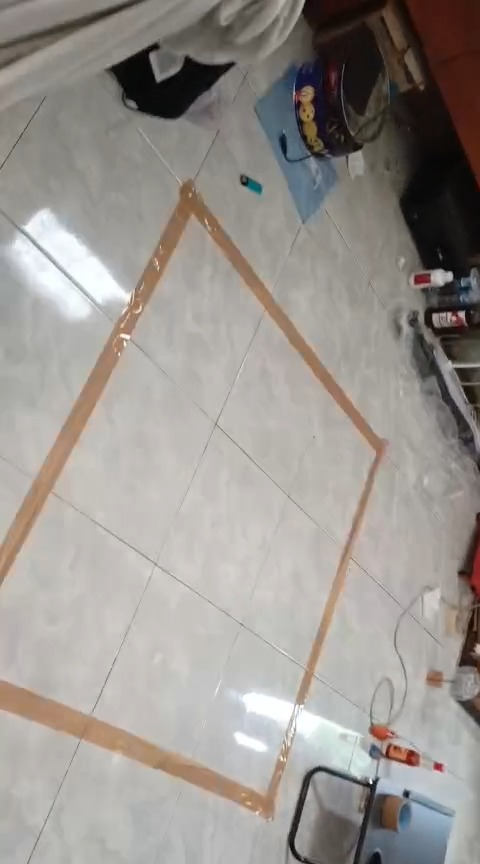floor marking: (0, 182, 385, 817)
